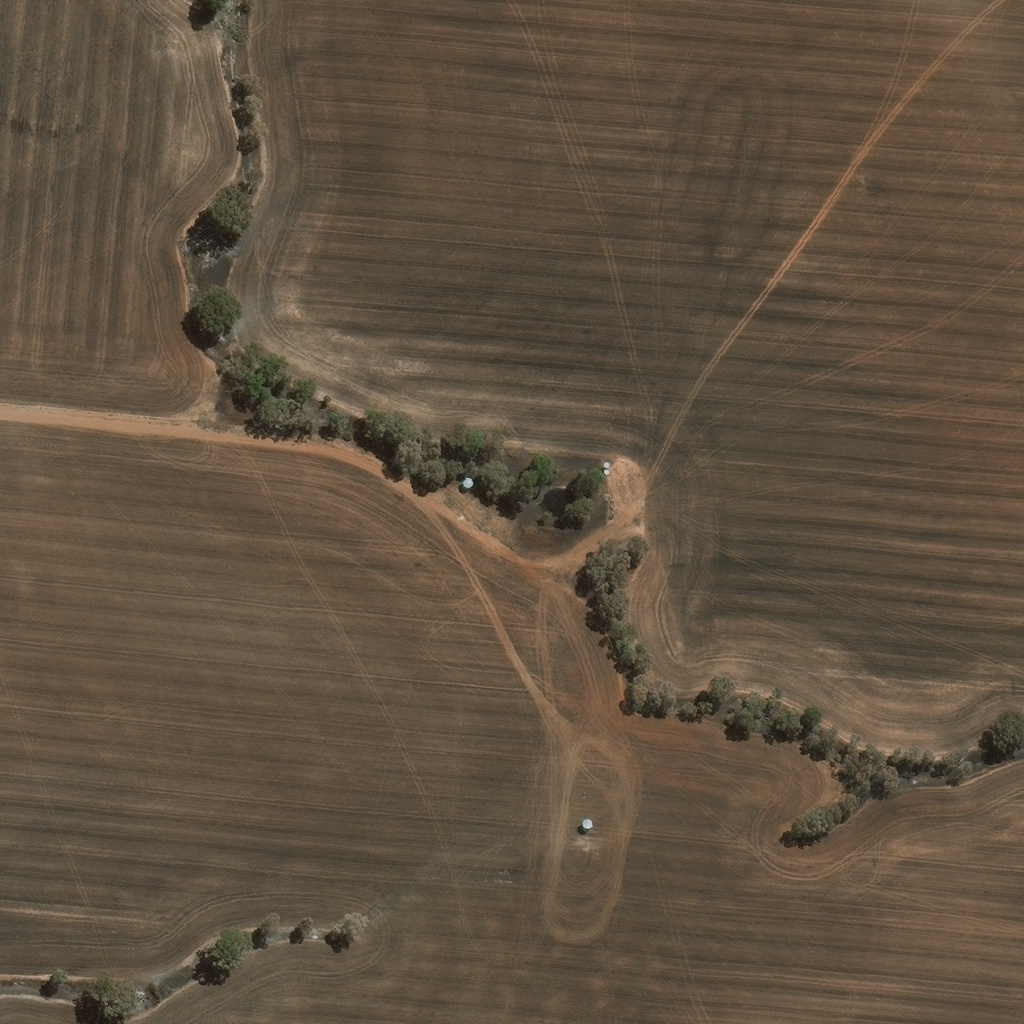0 no-damage: (458, 468, 470, 480), (597, 460, 605, 467), (597, 454, 606, 460)
4 un-classified: (494, 502, 505, 514)
